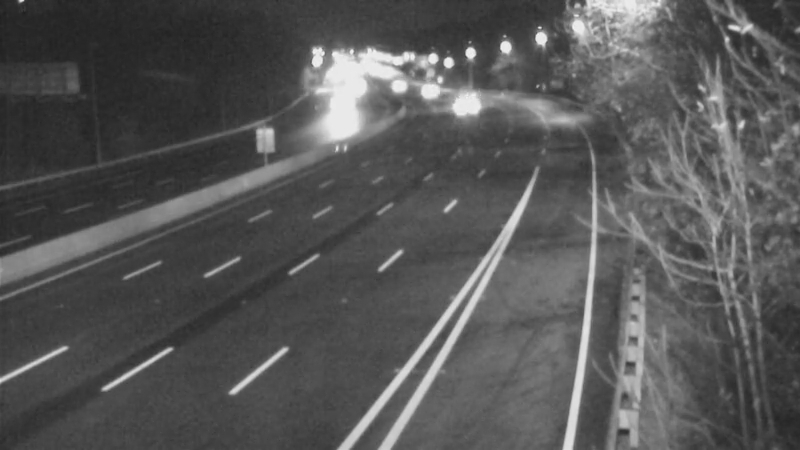vehicle: (444, 72, 494, 122)
